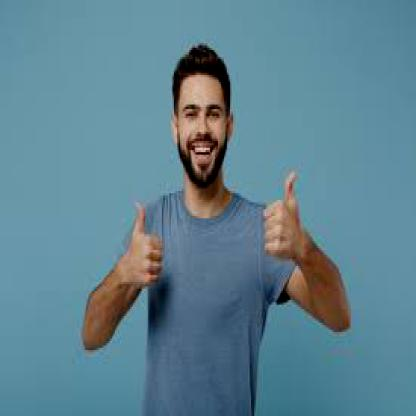Thumbs up: (123, 194, 161, 297), (258, 172, 301, 260)
